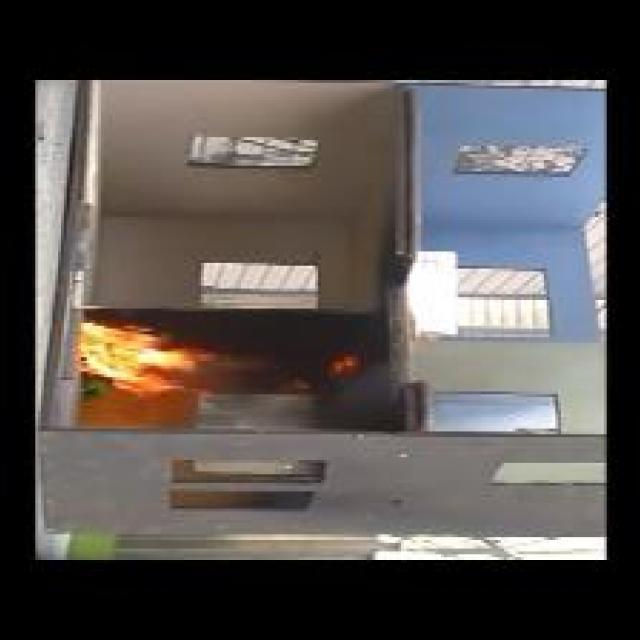Fire: (77, 323, 214, 397)
